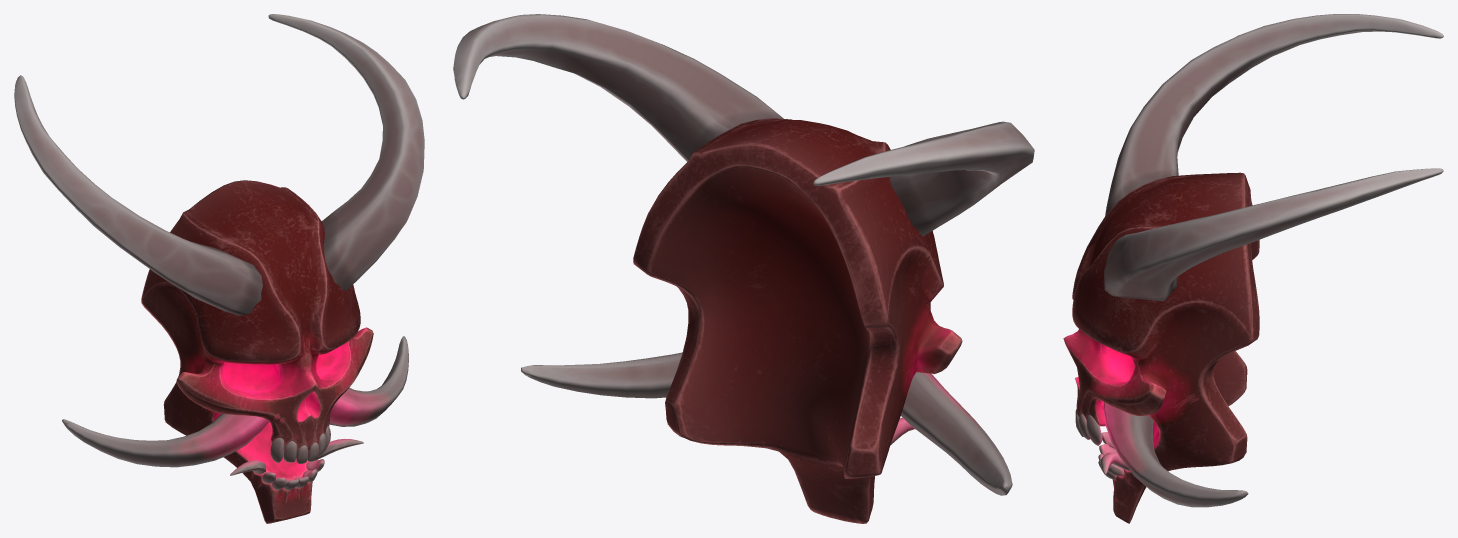
Rendered from hannya_mask_skull.glb.
The picture shows the model from 3 angles, left to right: view 1: azimuth 30°, elevation 25°; view 2: azimuth 150°, elevation 25°; view 3: azimuth 270°, elevation 25°; orthographic projection. The views are drawn at different scales.
Visible parts, largest first — view 1: LP_Mask, LP_Horns, LP_Tusks, LP_MiniTusks, LP_Tooth3, LP_Tooth2, LP_Tooth1; view 2: LP_Mask, LP_Horns, LP_Tusks; view 3: LP_Mask, LP_Horns, LP_Tusks, LP_Tooth3.
Boxes of the visible parts, box(x1,y1,x2,y2) form: LP_Mask: box(141, 180, 373, 523); LP_Horns: box(14, 14, 424, 315); LP_Tusks: box(62, 336, 408, 467); LP_MiniTusks: box(230, 439, 363, 475); LP_Tooth3: box(262, 425, 330, 483); LP_Tooth2: box(272, 433, 326, 489); LP_Tooth1: box(284, 442, 319, 490); LP_Mask: box(633, 118, 962, 523); LP_Horns: box(453, 14, 1034, 236); LP_Tusks: box(521, 352, 1012, 495); LP_Mask: box(1063, 172, 1259, 523); LP_Horns: box(1104, 14, 1443, 301); LP_Tusks: box(1103, 402, 1248, 507); LP_Tooth3: box(1086, 415, 1124, 476).
Bounding box in the file's own units: 0.3918 × 0.391 × 0.3212.
Materials: 1 (1 with a texture image).
